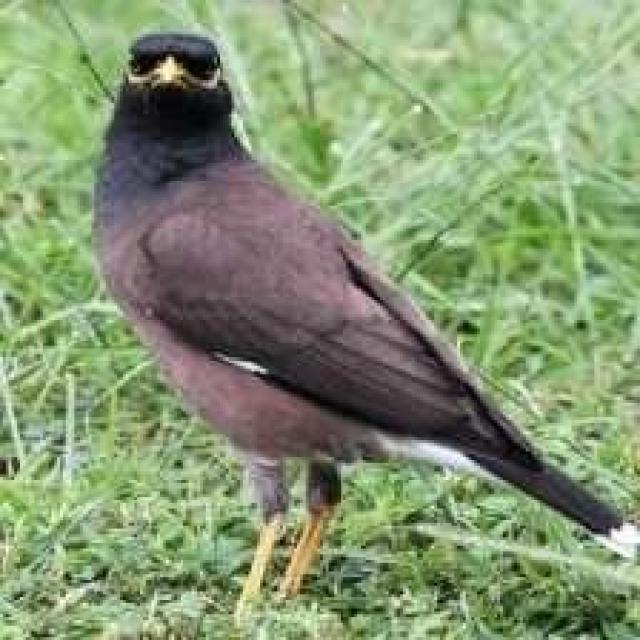bird: (88, 17, 640, 622)
